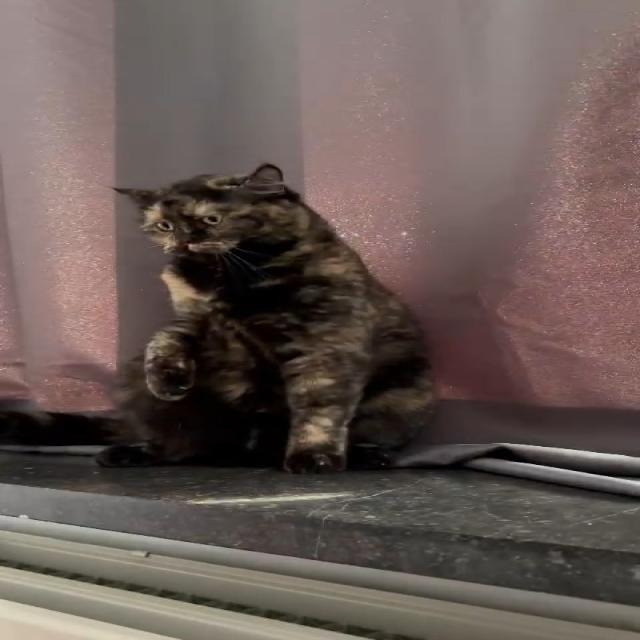authorized: (99, 162, 440, 474)
